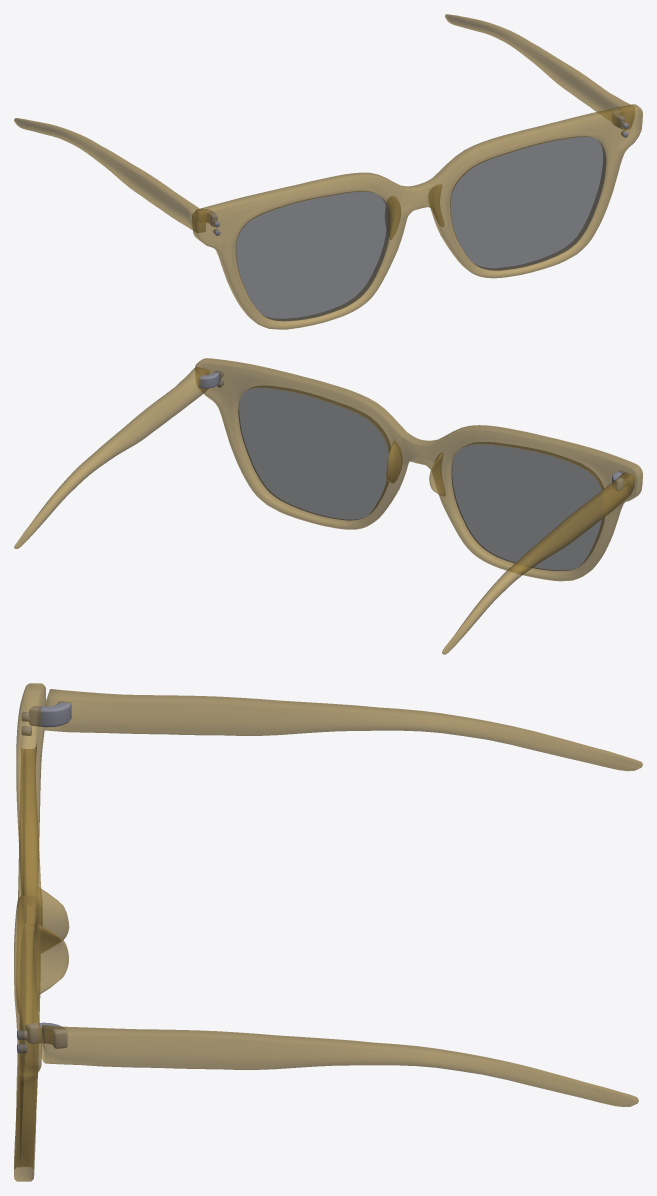
Rendered from pickle.glb.
3 renders of one model, top to bottom at view 1: azimuth 30°, elevation 25°; view 2: azimuth 150°, elevation 25°; view 3: azimuth 270°, elevation 25°, orthographic. The views are drawn at different scales.
Visible parts, largest first — view 1: model_5.002; view 2: model_5.002; view 3: model_5.002.
Boxes of the visible parts, x1,y1,x2,y2 form: model_5.002: (14, 14, 642, 329); model_5.002: (14, 358, 642, 654); model_5.002: (14, 683, 642, 1181).
Size of the model in its own units: 2.3 by 0.6923 by 1.75.
